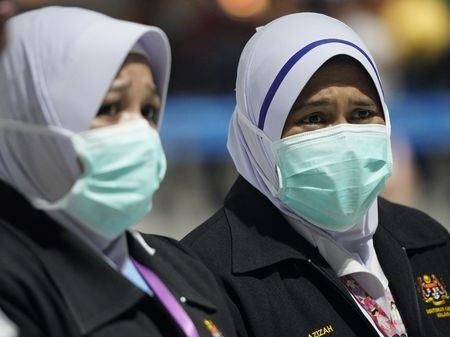face_with_mask: (41, 26, 187, 260), (261, 33, 411, 253)
